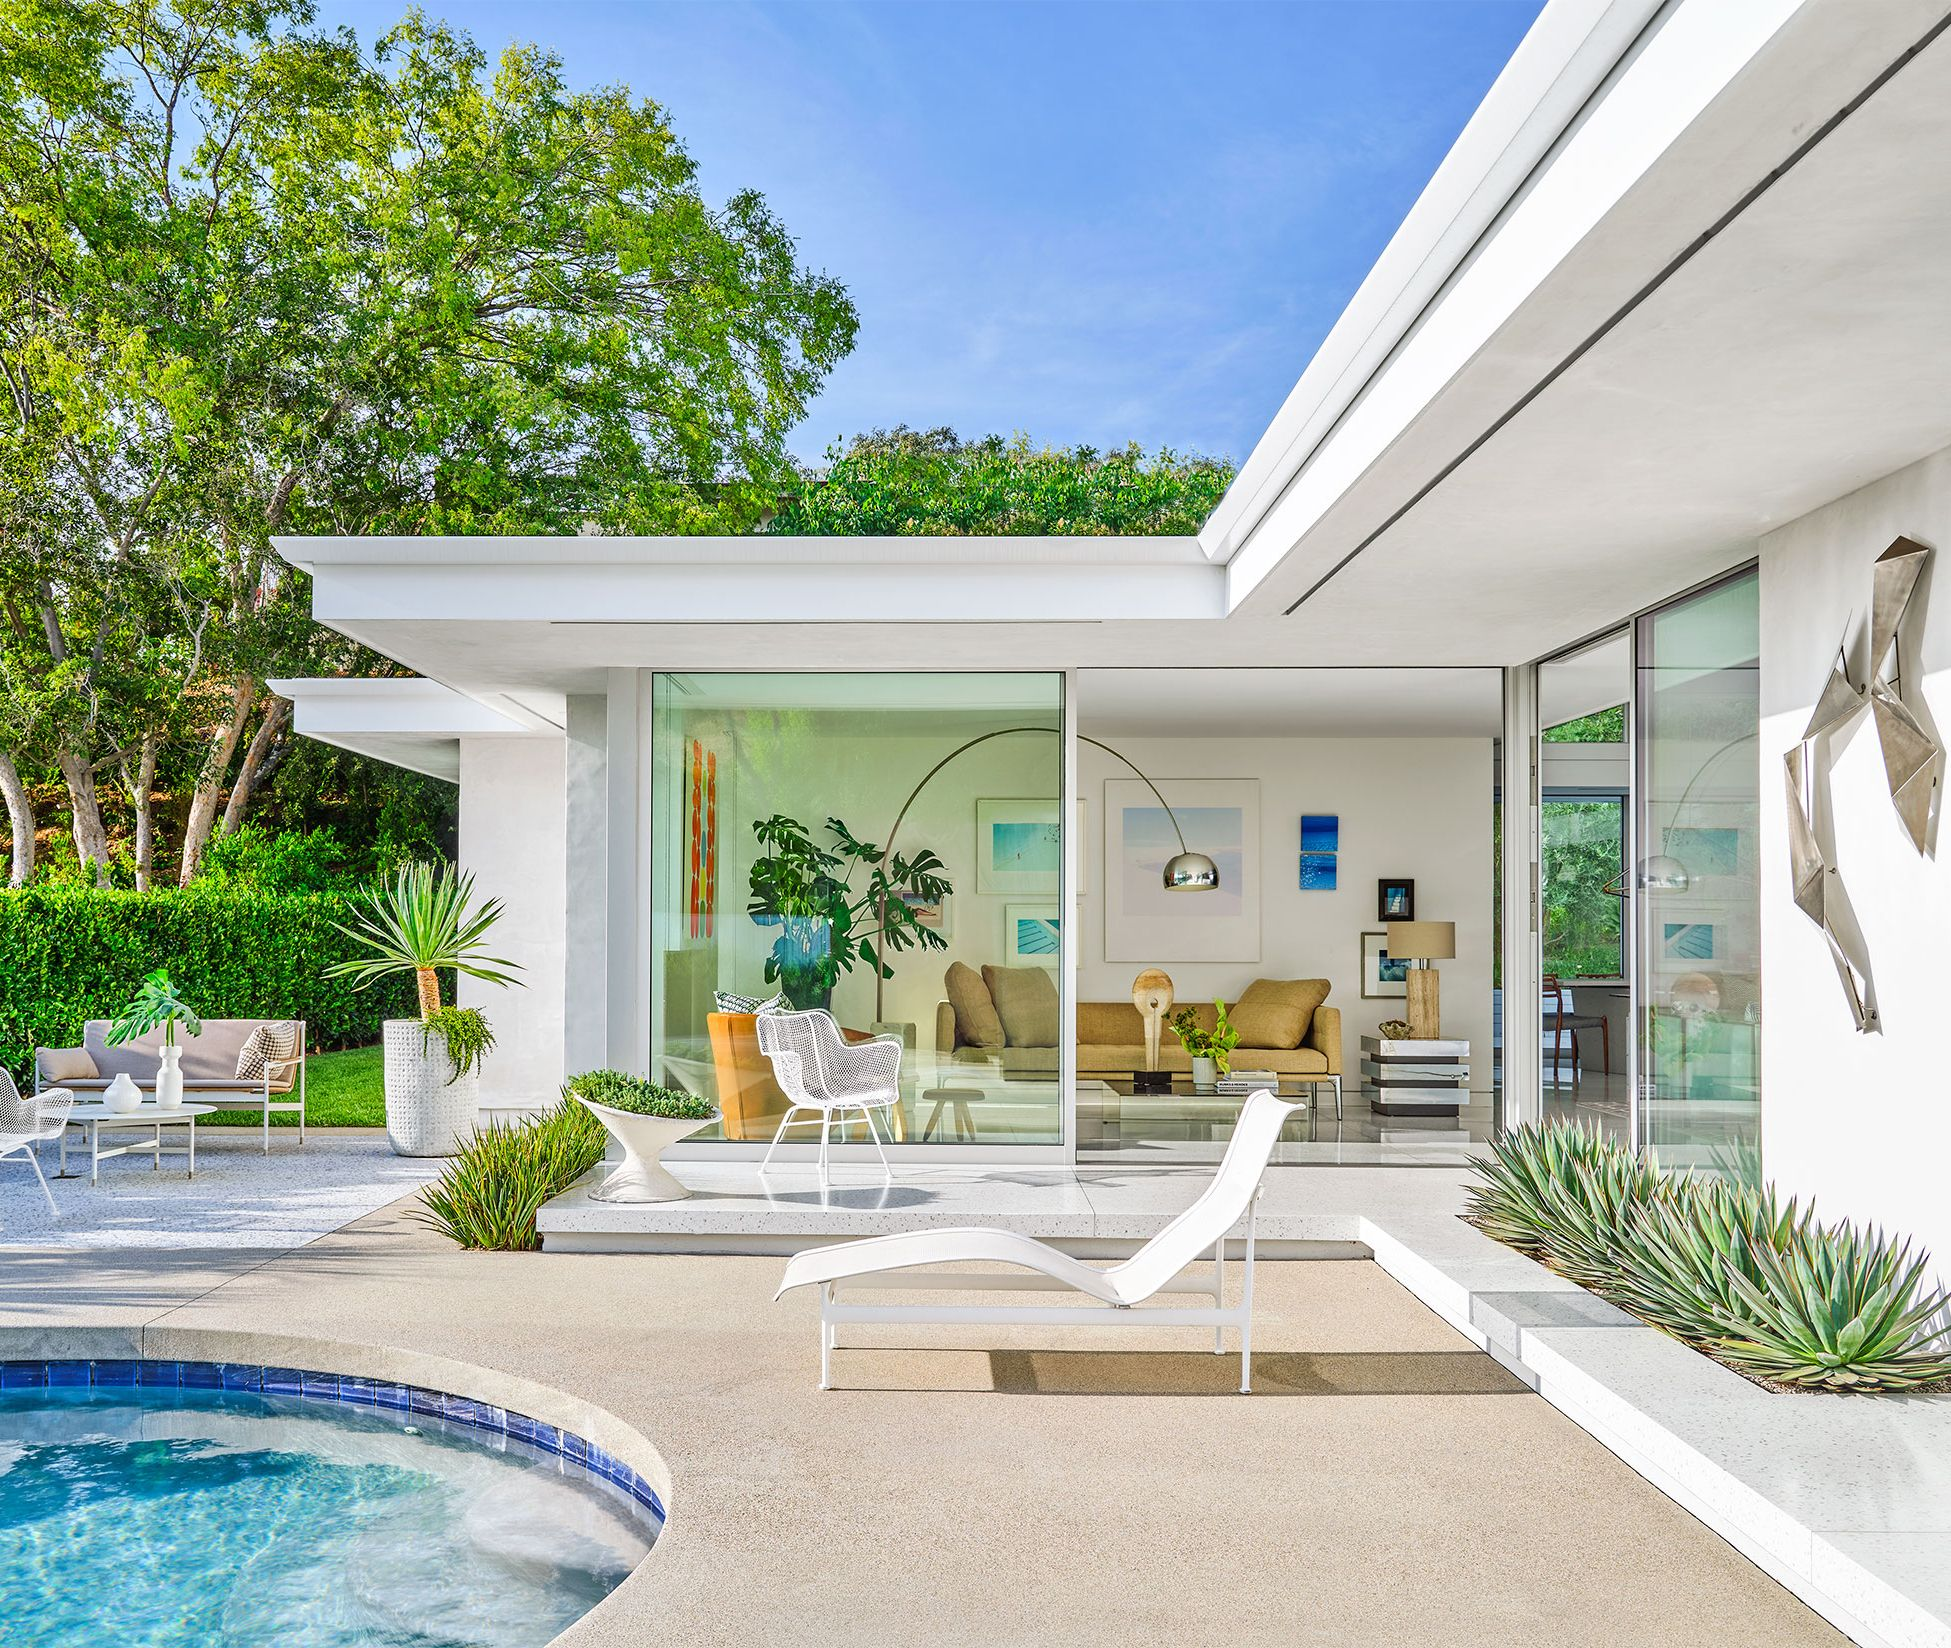Window: (649, 665, 1065, 1151), (1639, 559, 1768, 1192)
